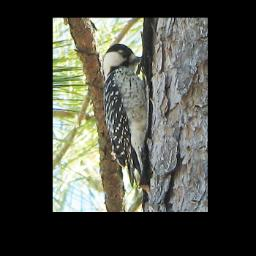Woodpecker: (102, 43, 150, 191)
